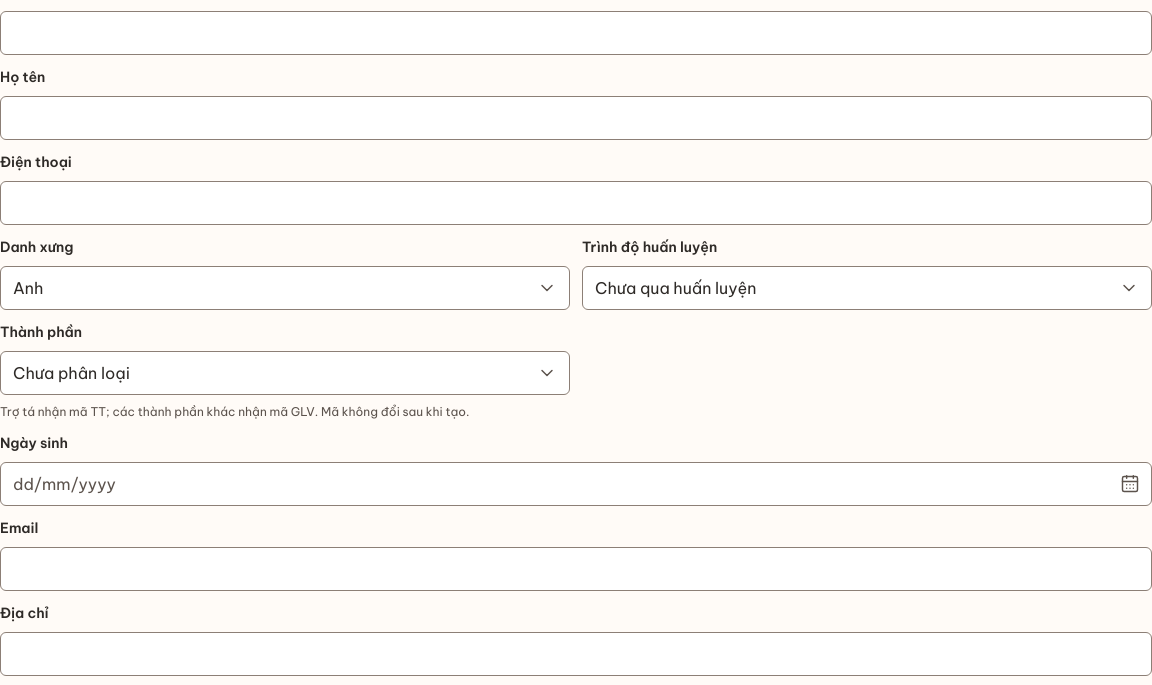
Test: pha hai — cảnh báo trùng › không chặn cứng: nút đổi thành 'Vẫn tạo hồ sơ mới' và mang theo cờ xác nhận
This screenshot has width=1152, height=685.
In the field labelled "Họ tên": (576, 118) [0,96,1151,140], type "Ngô Thị Trùng"
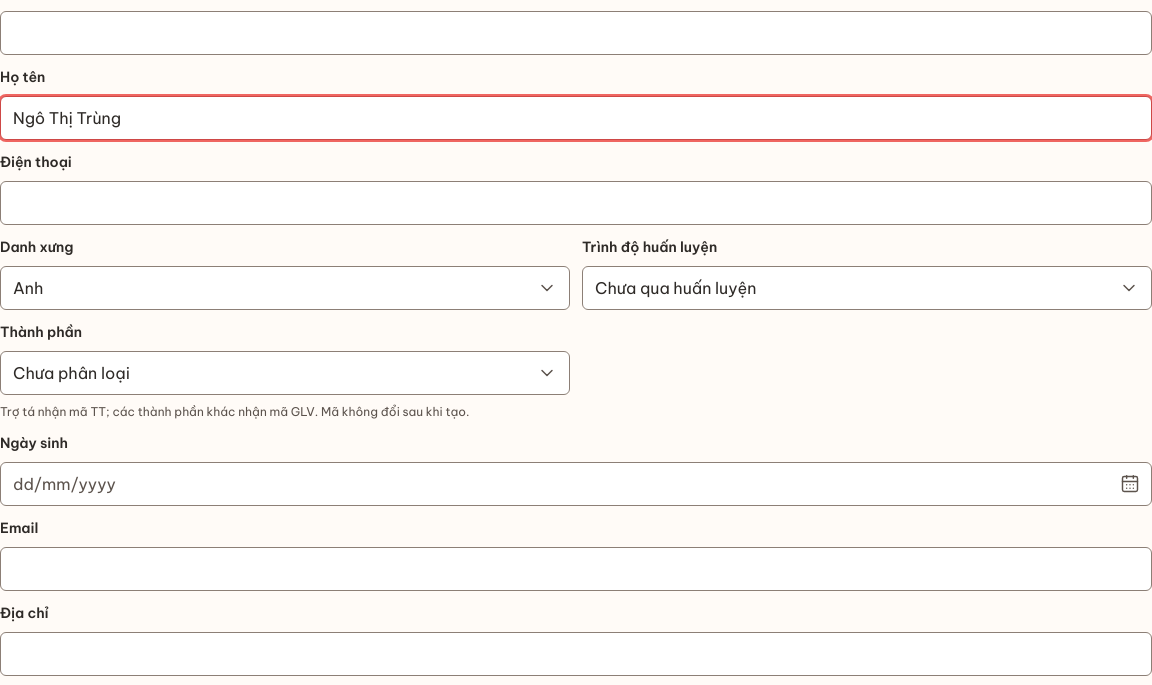
In the field labelled "Điện thoại": (576, 203) [0,181,1151,225], type "0901000009"
(page scrolled)
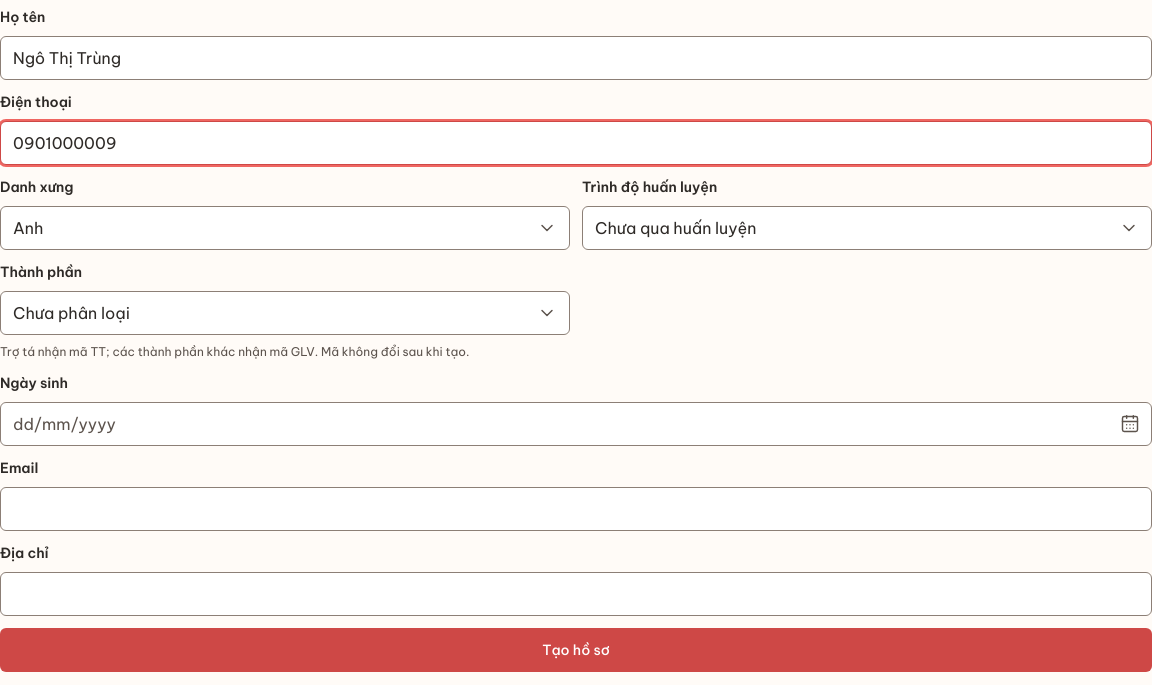
Click the button "Tạo hồ sơ": (576, 650) [0,628,1151,672]
(page scrolled)
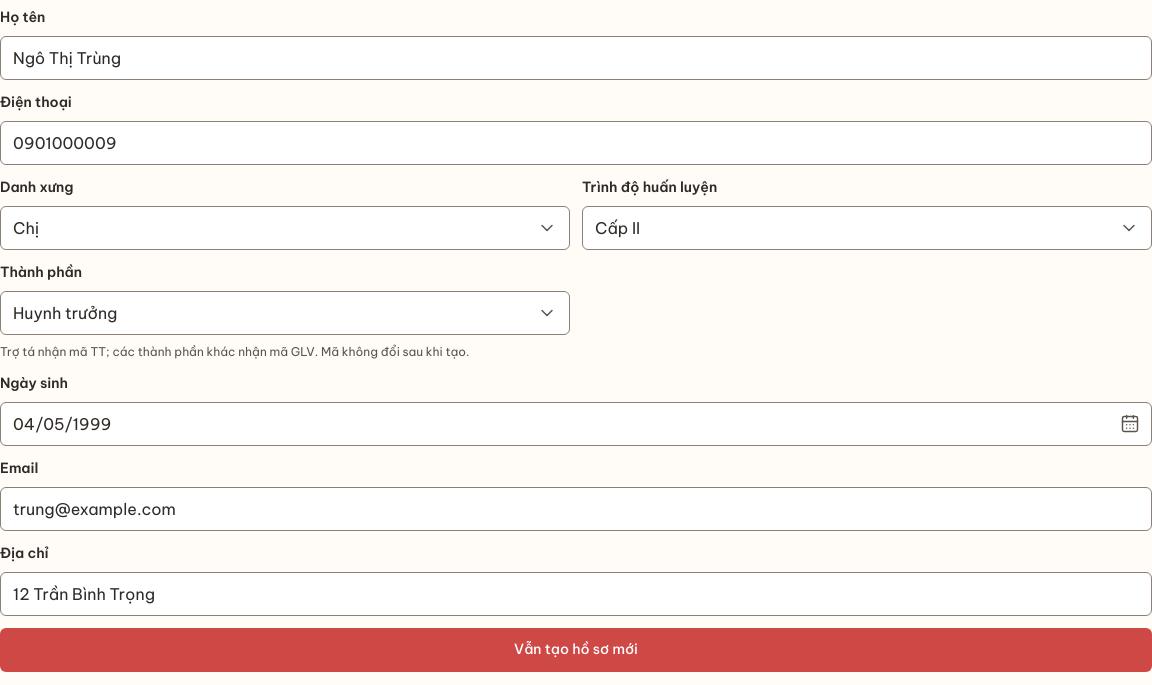
Now the button "Vẫn tạo hồ sơ mới" is shown, box [0,628,1151,672]
